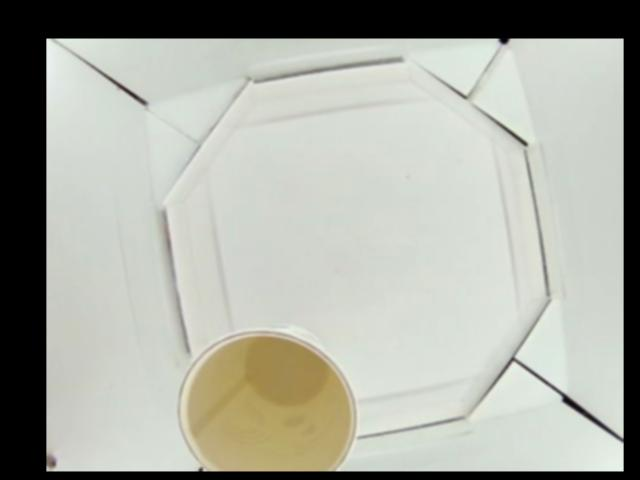Cup: (175, 327, 357, 471)
